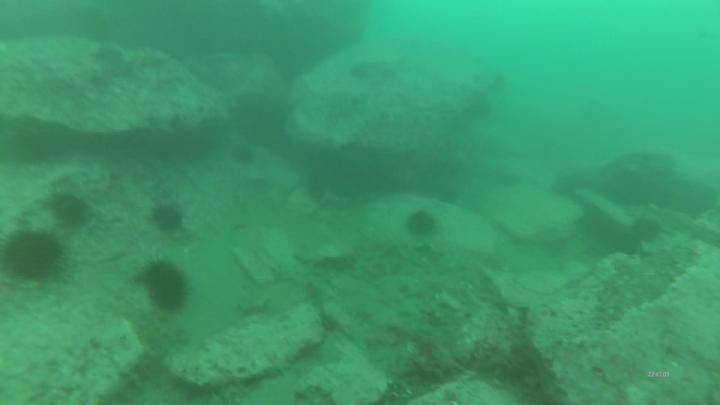echinus: (1, 227, 72, 285), (136, 257, 193, 319), (43, 188, 97, 236), (147, 196, 188, 237), (404, 204, 441, 242), (228, 141, 258, 170)
